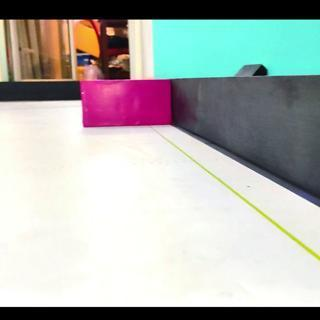xparking: (81, 84, 166, 125)
